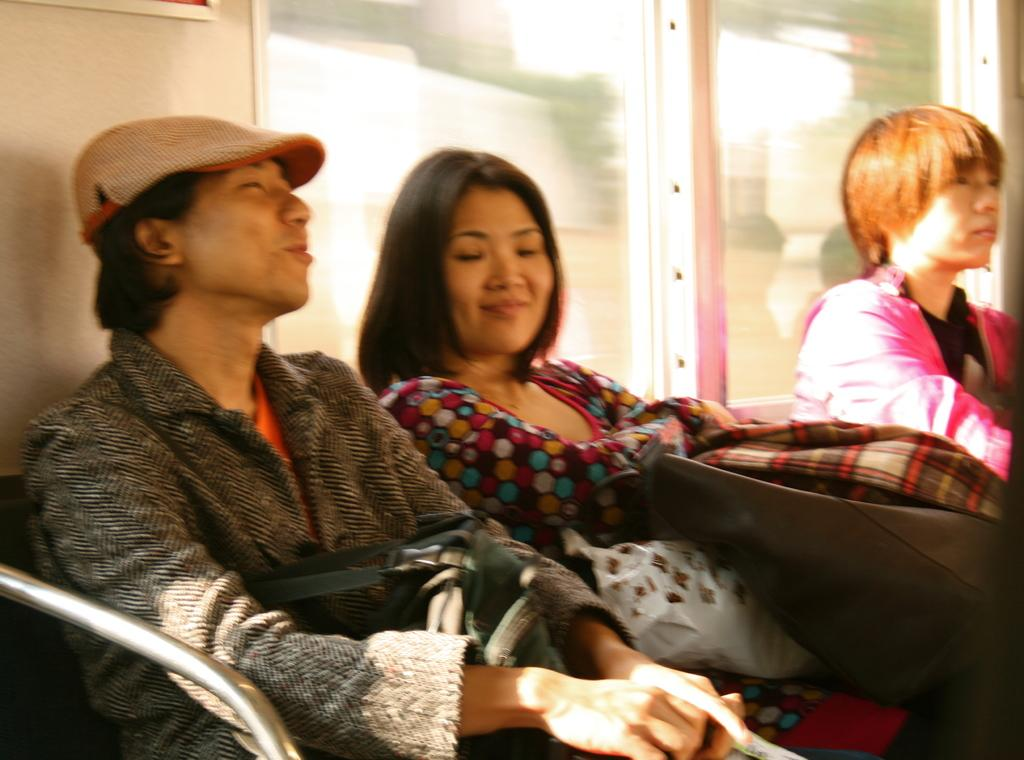Hat: (73, 108, 325, 242)
